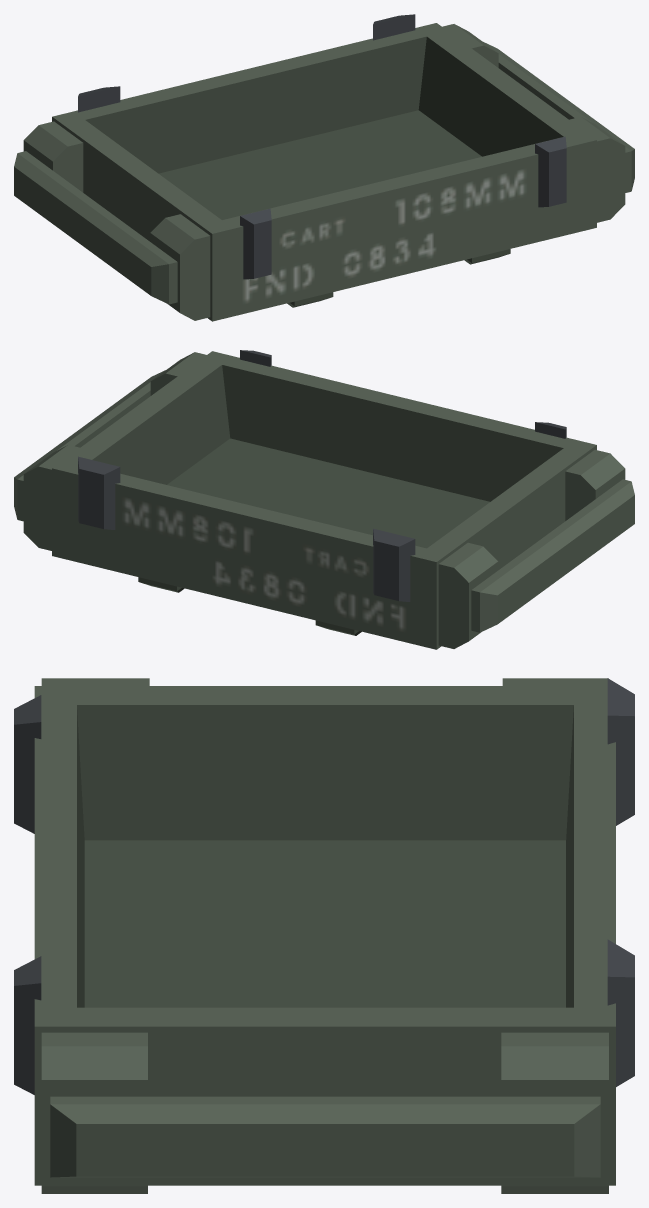
Rendered from SM_Prop_Crate_Ammo_01.glb.
3 views of the same model, one above another, from view 1: azimuth 30°, elevation 25°; view 2: azimuth 150°, elevation 25°; view 3: azimuth 270°, elevation 25° (orthographic). The views are drawn at different scales.
Parts seen in each view (by area): view 1: SM_Prop_Crate_Ammo_01; view 2: SM_Prop_Crate_Ammo_01; view 3: SM_Prop_Crate_Ammo_01.
Part boxes in pixels (x1=…): SM_Prop_Crate_Ammo_01: x1=14, y1=14, x2=634, y2=321; SM_Prop_Crate_Ammo_01: x1=14, y1=350, x2=634, y2=649; SM_Prop_Crate_Ammo_01: x1=14, y1=678, x2=634, y2=1193.
Bounding box in the file's own units: 1.4 × 0.3344 × 0.86.
1 material, 1 textured.
